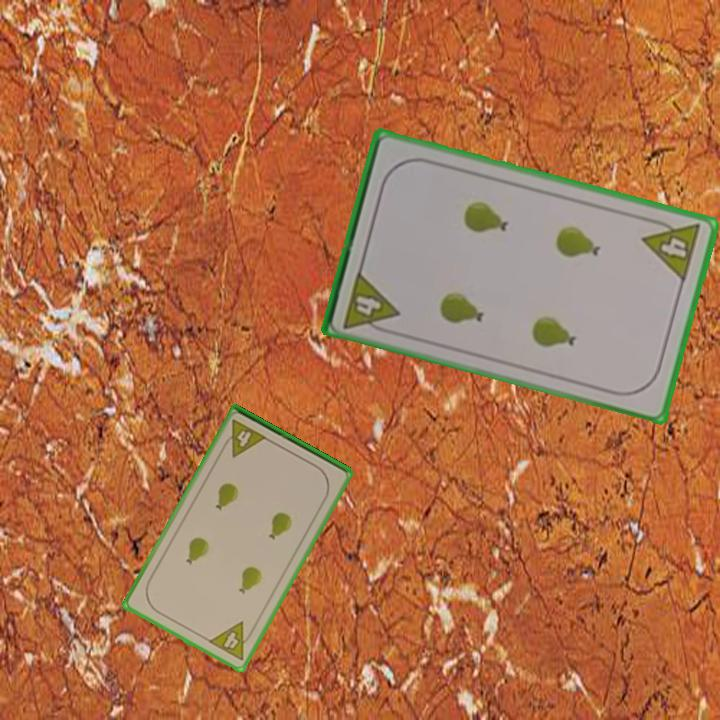4p: (639, 213, 704, 285), (339, 267, 402, 337), (205, 618, 258, 663), (218, 416, 270, 461)
